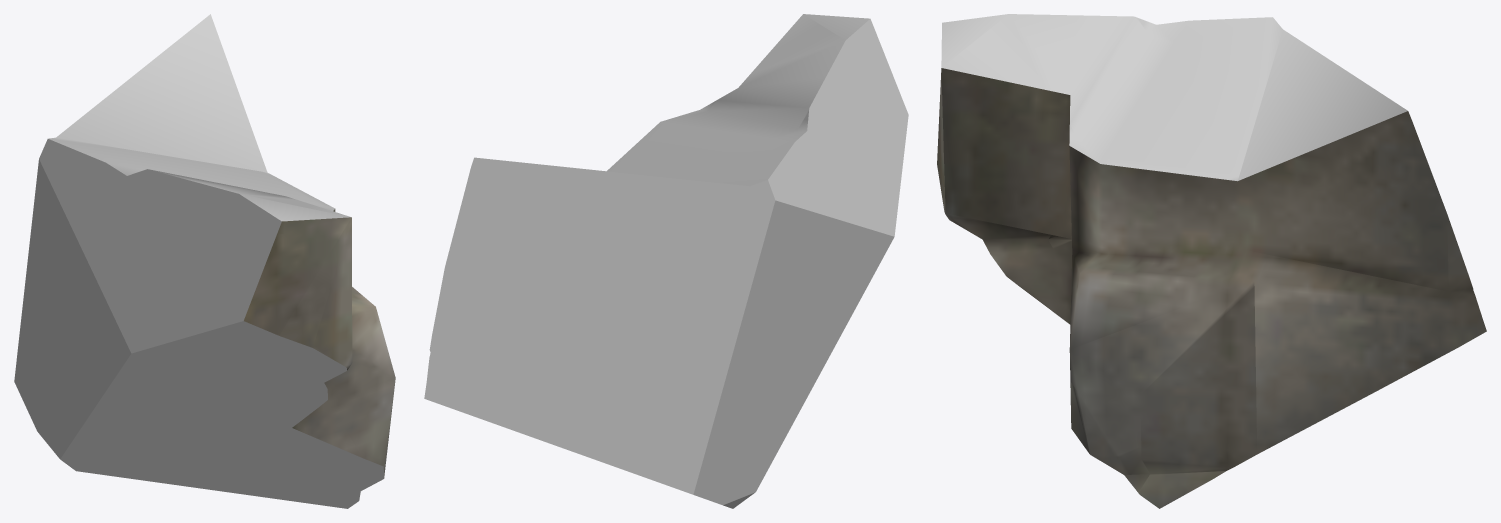
File: ColumnDamage08_37.fbx
The picture shows the model from 3 angles, left to right: view 1: azimuth 30°, elevation 25°; view 2: azimuth 150°, elevation 25°; view 3: azimuth 270°, elevation 25°; orthographic projection. The views are drawn at different scales.
Parts seen in each view (by area): view 1: ColumnDamage08_DM.037; view 2: ColumnDamage08_DM.037; view 3: ColumnDamage08_DM.037.
Boxes of the visible parts, x1,y1,x2,y2 form: ColumnDamage08_DM.037: [14, 14, 395, 508]; ColumnDamage08_DM.037: [424, 14, 908, 508]; ColumnDamage08_DM.037: [937, 14, 1486, 508].
Size of the model in its own units: 74.46 by 111 by 136.
